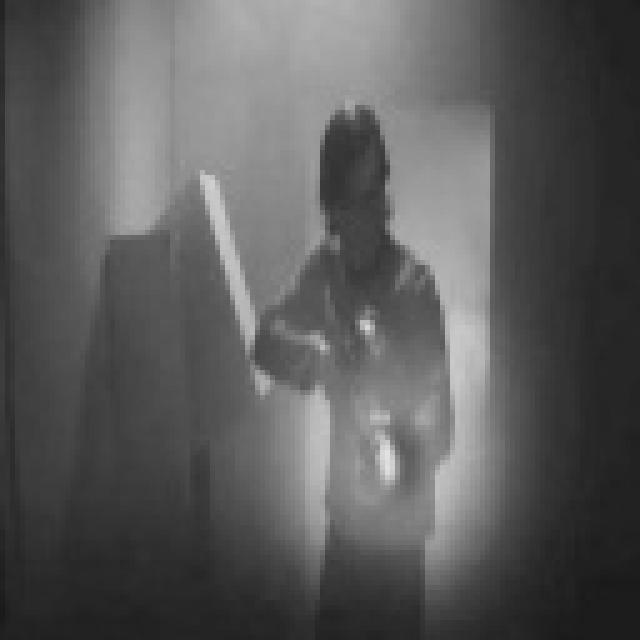Rifle: (288, 247, 480, 526)
